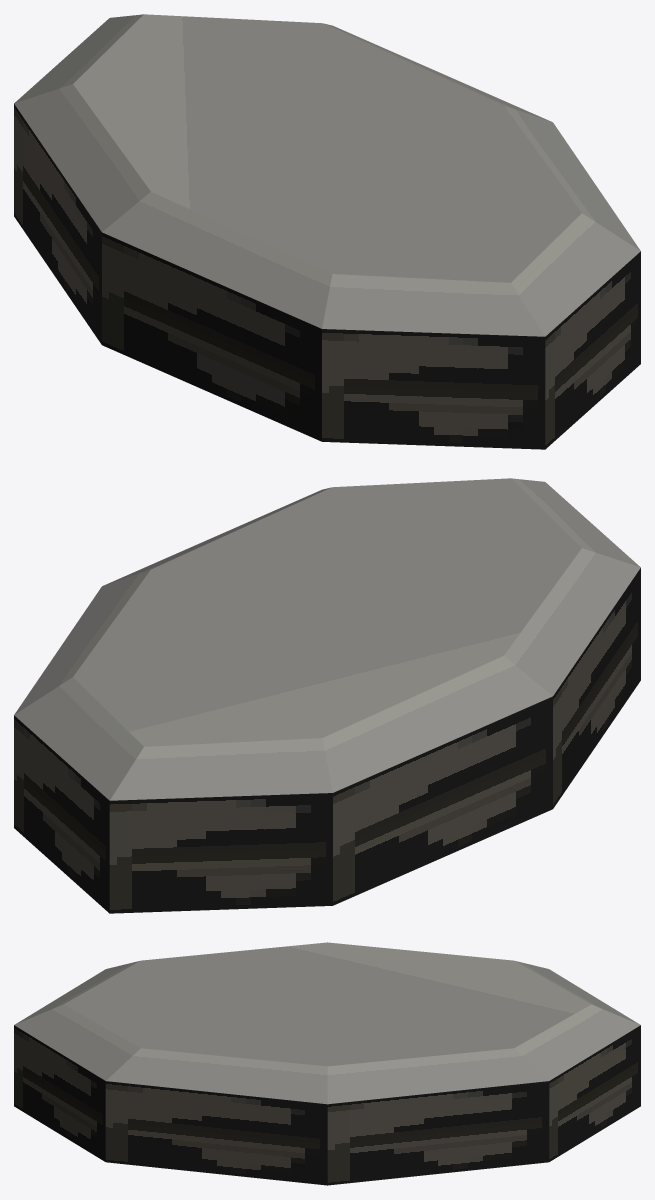
File: pz_native_lighting_outdoor_01_40_wall_lamp.obj
3 views of the same model, one above another, from view 1: azimuth 30°, elevation 25°; view 2: azimuth 150°, elevation 25°; view 3: azimuth 270°, elevation 25° (orthographic). The views are drawn at different scales.
Visible parts, largest first — view 1: pz_native_lighting_outdoor_01_40_wall_lamp; view 2: pz_native_lighting_outdoor_01_40_wall_lamp; view 3: pz_native_lighting_outdoor_01_40_wall_lamp.
Boxes of the visible parts, box(x1,y1,x2,y2) form: pz_native_lighting_outdoor_01_40_wall_lamp: box(14, 14, 640, 449); pz_native_lighting_outdoor_01_40_wall_lamp: box(14, 478, 640, 913); pz_native_lighting_outdoor_01_40_wall_lamp: box(14, 942, 640, 1185).
Size of the model in its own units: 0.2018 by 0.0605 by 0.3375.
Materials: 1 (1 with a texture image).
